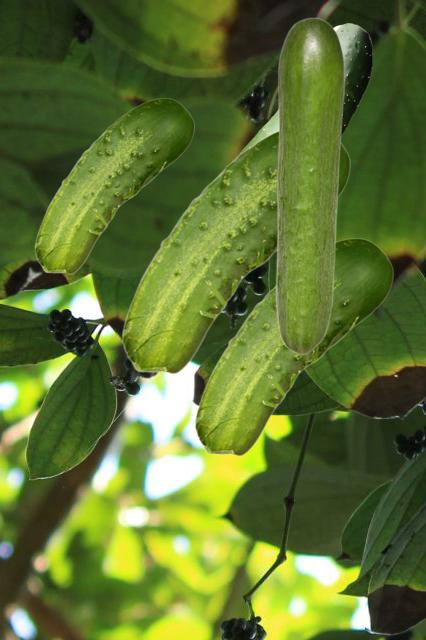cucumber: (121, 129, 349, 373), (194, 238, 392, 455), (34, 98, 193, 273), (275, 17, 344, 354), (232, 23, 371, 160)
